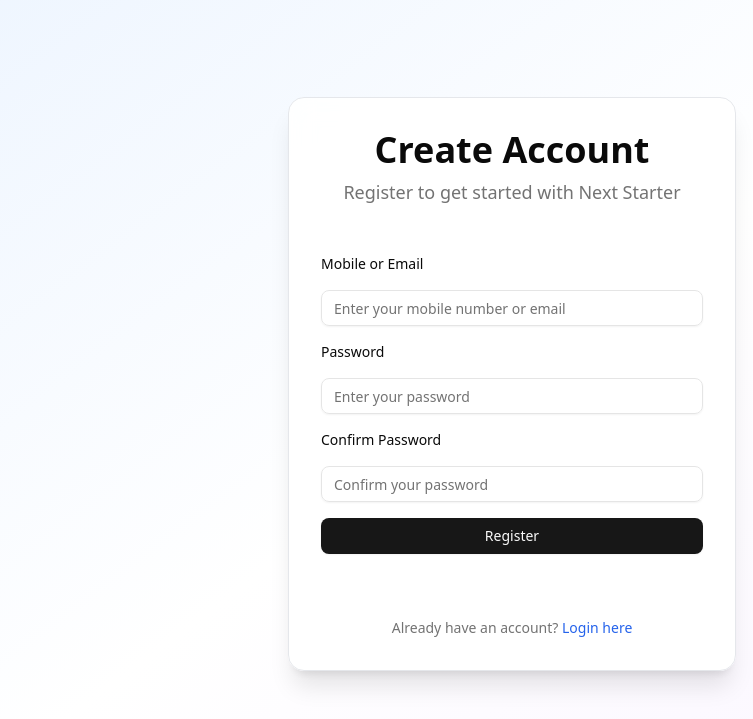
RegisterPage › shows error for weak password (backend)
Type "test@example.com" into the field with placeholder "Enter your mobile number or email" at (512,308), box x1=321 y1=290 x2=703 y2=326
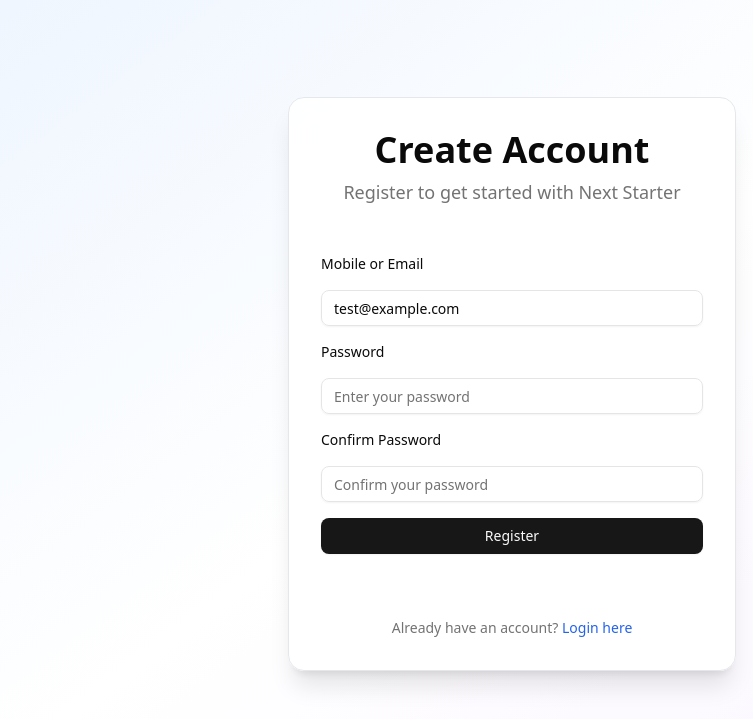
Type "weakpass" into the password field with placeholder "Enter your password" at (512,396), box x1=321 y1=378 x2=703 y2=414
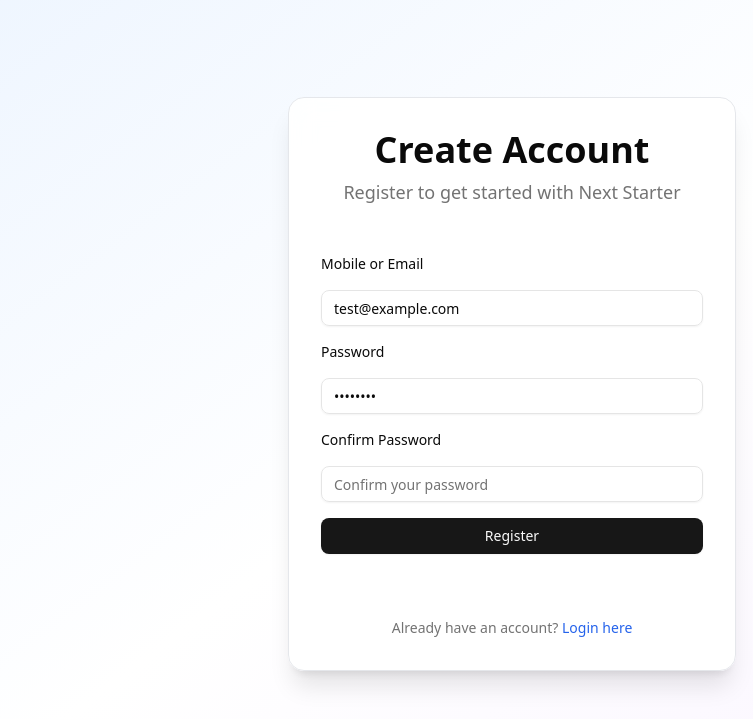
Type "weakpass" into the password field with placeholder "Confirm your password" at (512,484), box x1=321 y1=466 x2=703 y2=502
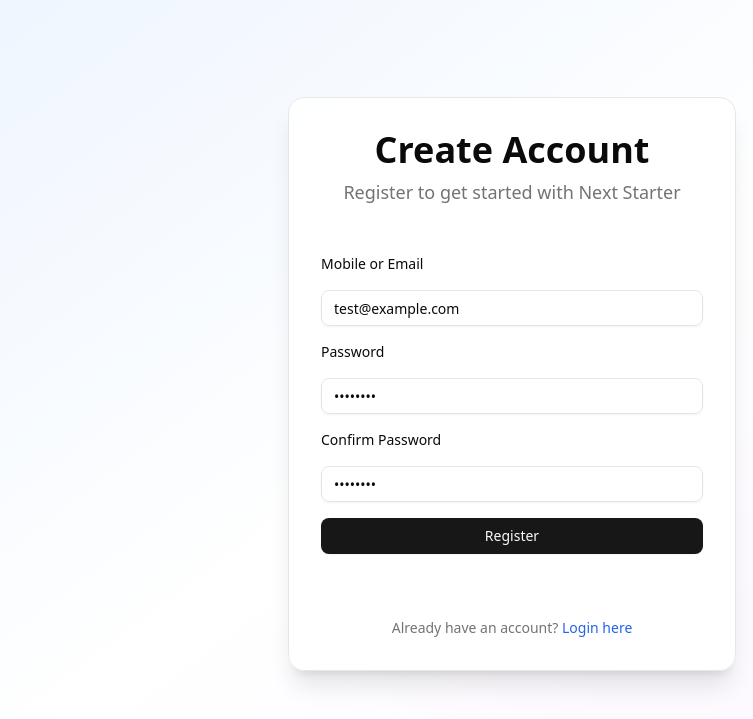
Click the button "Register" at (512,536), box x1=321 y1=518 x2=703 y2=554
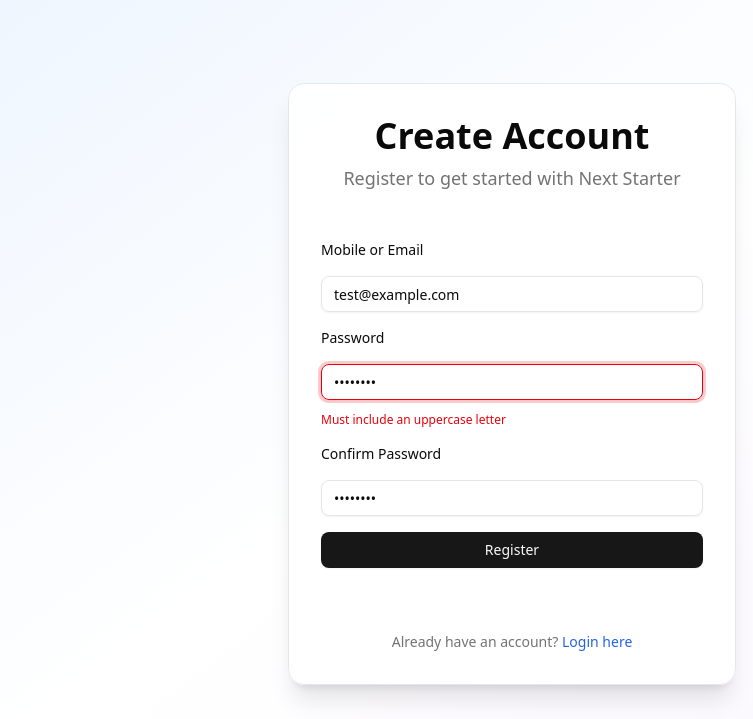
Expected: the text "Must include an uppercase letter" is shown, x1=321 y1=411 x2=506 y2=428
